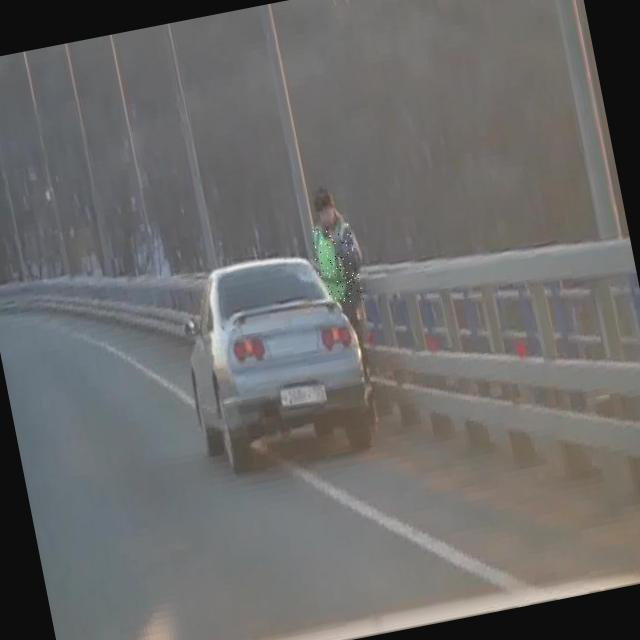vest: (309, 224, 364, 308)
